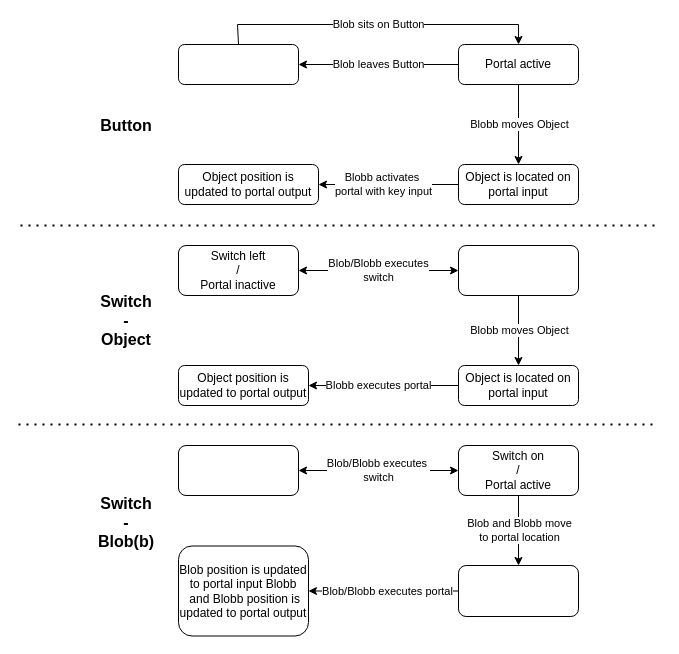
Image size: 679x654. Some labels were removed from this diagram. The shapes that lost their labels are listed below. From the top down, each one's centre as x and y in pixels, then its label:
pixel 238 64: Portal inactive
pixel 518 270: Switch right / Portal active
pixel 238 470: Switch off / Portal inactive
pixel 518 590: Blob and Blobb are located on portal input
